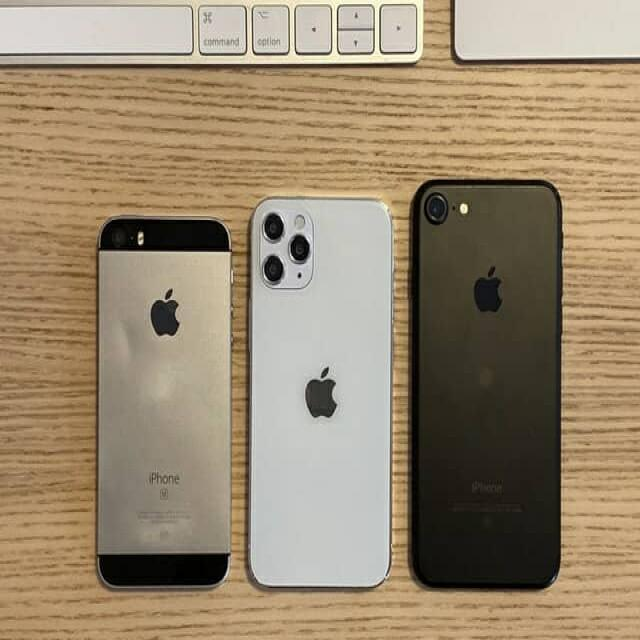phone: (414, 180, 562, 590), (250, 194, 392, 588), (95, 214, 233, 588)
